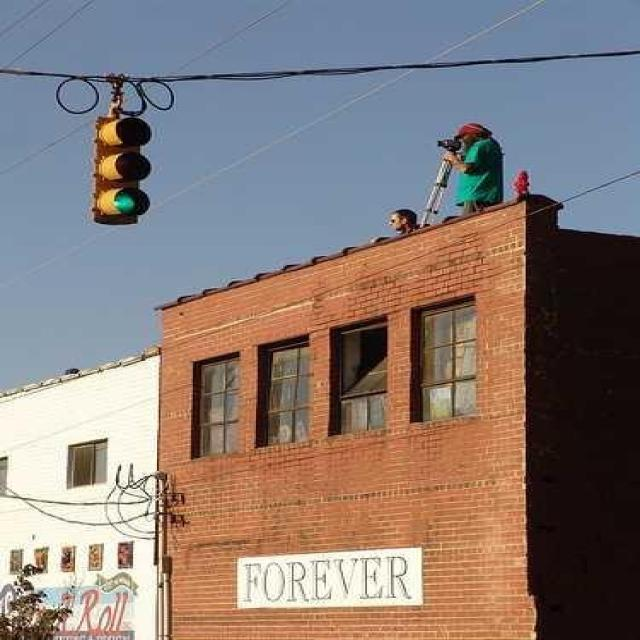Traffic Light -Green-: (90, 109, 156, 228)
